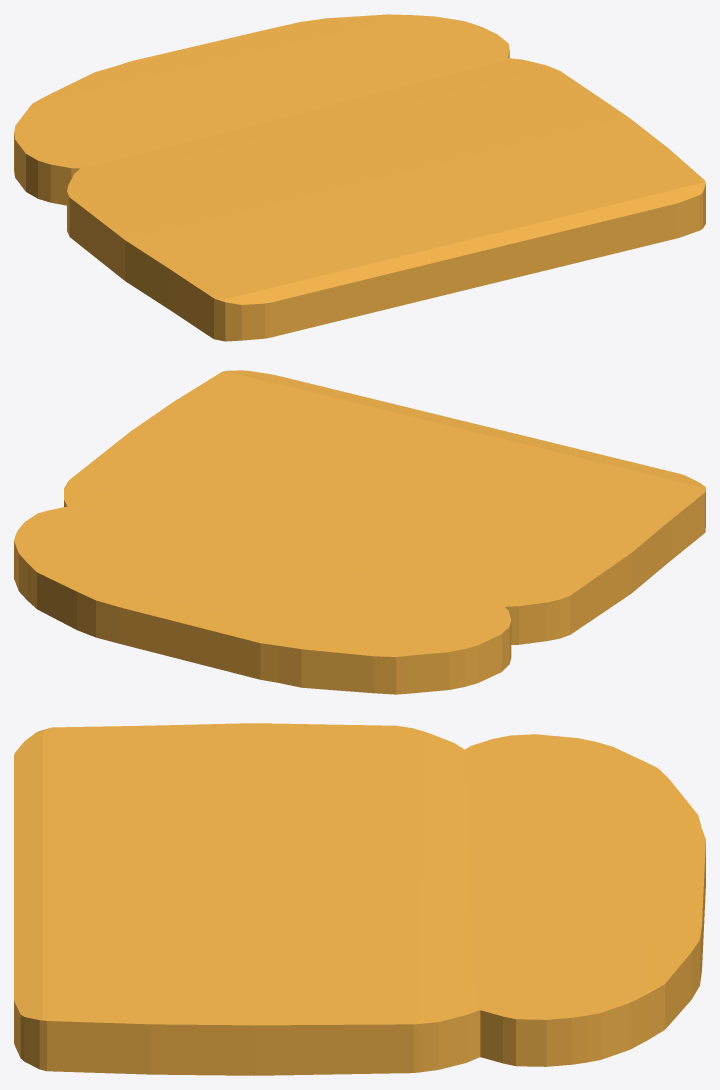
The model's file is toast.glb.
3 views of the same model, one above another, from view 1: azimuth 30°, elevation 25°; view 2: azimuth 150°, elevation 25°; view 3: azimuth 270°, elevation 25° (orthographic). The views are drawn at different scales.
Visible parts, largest first — view 1: Toast; view 2: Toast; view 3: Toast.
Part boxes in pixels (bbox=[...]): Toast: bbox=[14, 14, 705, 341]; Toast: bbox=[14, 370, 705, 694]; Toast: bbox=[14, 723, 705, 1075].
Bounding box in the file's own units: 0.1268 × 0.00987 × 0.1227.
1 material, 1 textured.
